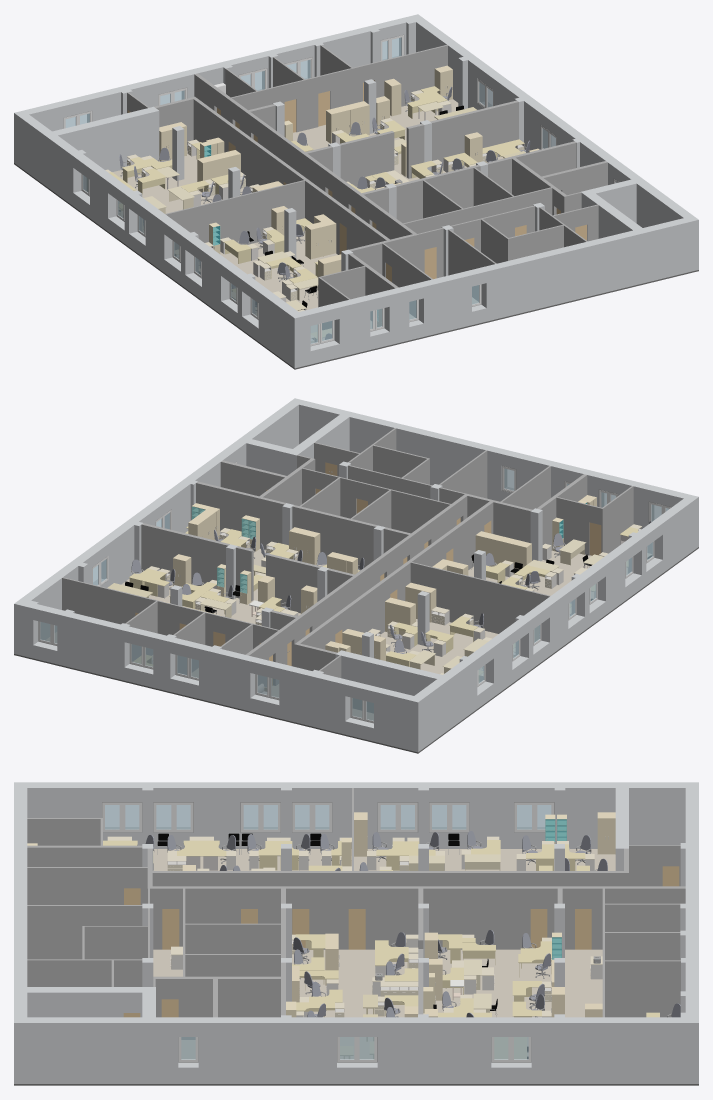
File: house5.glb
3 renders of one model, top to bottom at view 1: azimuth 30°, elevation 25°; view 2: azimuth 150°, elevation 25°; view 3: azimuth 270°, elevation 25°, orthographic. The views are drawn at different scales.
Parts seen in each view (by area): view 1: 303139, 303245, 303015, 302848, 310249, 348348, 308723, 308174, 312768, 303903, 310036, 309248 (+26 smaller); view 2: 302848, 303245, 303139, 303015, 308174, 308723, 348348, 310249, 312768, 311257, 310036, 309395 (+27 smaller); view 3: 303015, 303245, 308174, 348348, 308723, 309497, 312547, 312644, 302848, 310447, 303626, 303139 (+36 smaller).
Part boxes in pixels (x1,y1,x2,y2): 303139: (289,218,689,368); 303245: (19,114,298,363); 303015: (414,18,698,271); 302848: (14,14,423,166); 310249: (231,45,447,132); 348348: (14,99,698,369); 308723: (192,96,389,254); 308174: (194,73,415,239); 312768: (165,180,304,249); 303903: (52,106,159,171); 310036: (430,100,518,170); 309248: (395,164,480,223); 302848: (14,599,423,752); 303245: (414,498,693,747); 303139: (299,400,698,550); 303015: (20,398,303,639); 308174: (245,495,467,687); 308723: (294,501,493,667); 348348: (14,539,698,753); 310249: (62,577,278,648); 312768: (410,562,550,633); 311257: (302,468,450,533); 310036: (141,523,229,585); 309395: (196,481,286,549); 303015: (14,1017,685,1083); 303245: (27,782,685,848); 308174: (152,886,685,949); 348348: (14,849,698,1085); 308723: (152,871,628,886); 309497: (153,976,280,1039); 312547: (27,905,142,959); 312644: (27,867,147,904); 302848: (685,782,698,1083); 310447: (605,960,680,1017); 303626: (27,987,155,1017); 303139: (14,782,27,1017).
Bounding box in the file's own units: 83.23 × 10.1 × 100.
